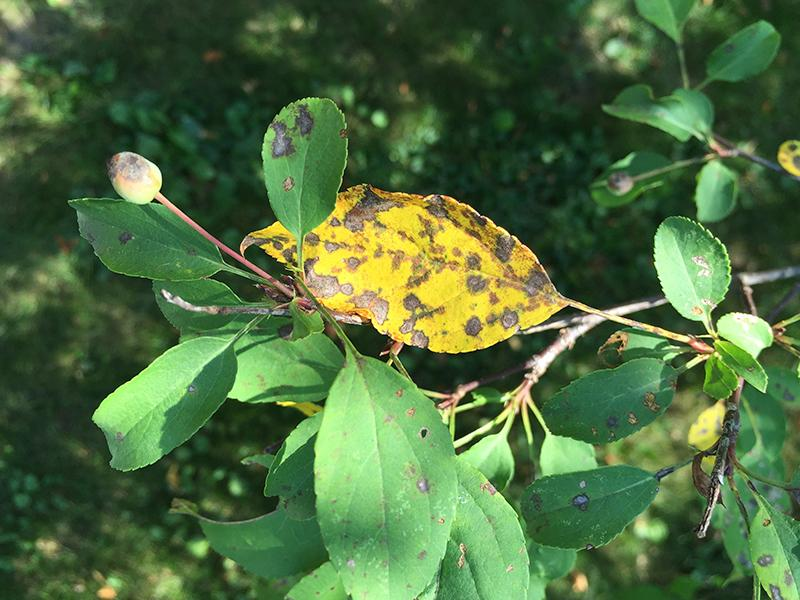Apple Scab Leaf: (255, 184, 592, 355), (309, 352, 459, 600), (57, 186, 233, 294), (520, 455, 672, 560), (532, 341, 686, 441), (257, 96, 353, 255)
